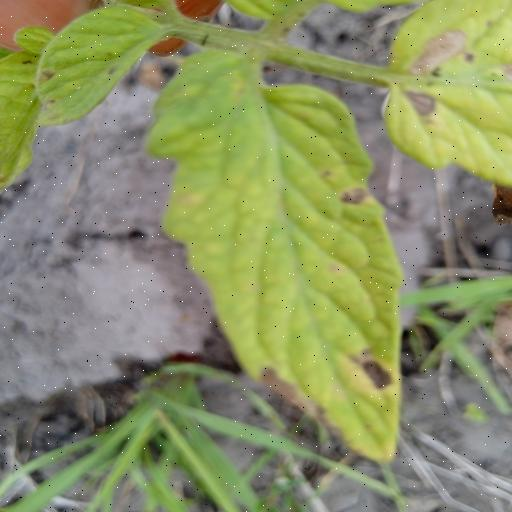Tomato_Brown_Spots: (140, 46, 411, 469), (378, 0, 512, 190), (33, 4, 173, 130)
